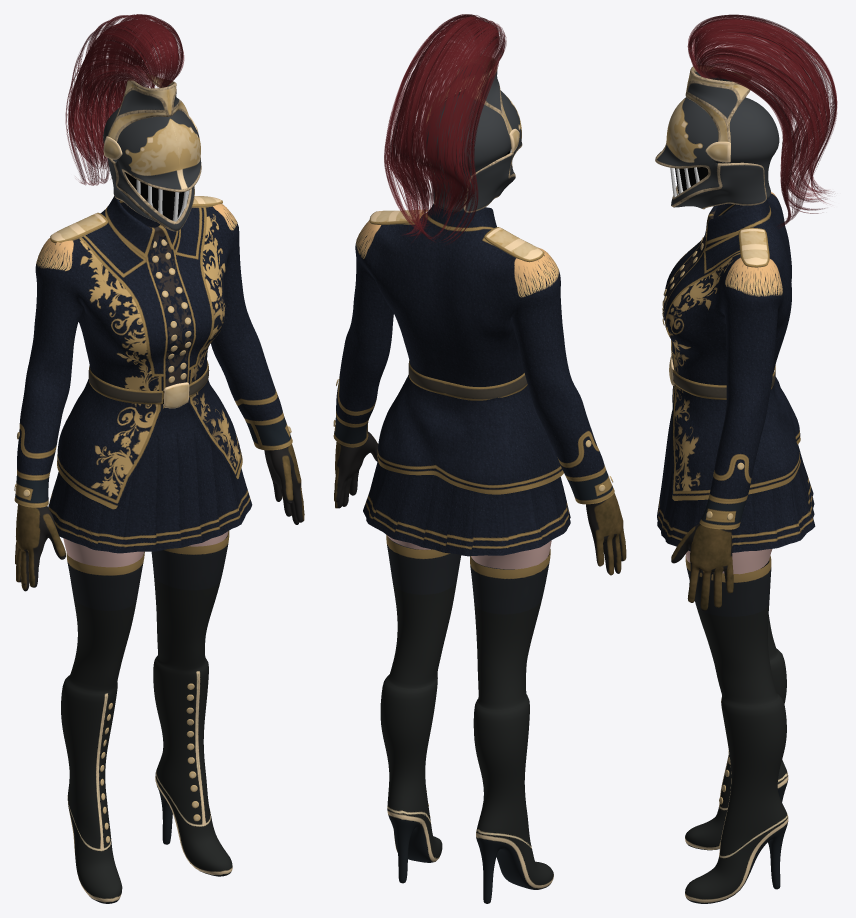
File: female_royal_guard.glb
3 renders of one model, left to right at view 1: azimuth 30°, elevation 25°; view 2: azimuth 150°, elevation 25°; view 3: azimuth 270°, elevation 25°, orthographic.
Parts seen in each view (by area): view 1: RoyalGuard_Female, RoyalGuard_Male.001, HermanSuit_Body.002; view 2: RoyalGuard_Female, RoyalGuard_Male.001, HermanSuit_Body.002; view 3: RoyalGuard_Female, RoyalGuard_Male.001, HermanSuit_Body.002.
Part boxes in pixels (x1,y1,x2,y2): RoyalGuard_Female: (14, 14, 292, 903); RoyalGuard_Male.001: (15, 444, 304, 591); HermanSuit_Body.002: (63, 531, 228, 567); RoyalGuard_Female: (333, 14, 614, 903); RoyalGuard_Male.001: (334, 431, 626, 575); HermanSuit_Body.002: (387, 535, 551, 569); RoyalGuard_Female: (655, 14, 837, 903); RoyalGuard_Male.001: (671, 523, 733, 611); HermanSuit_Body.002: (685, 549, 772, 574).
Size of the model in its own units: 0.6303 by 1.85 by 0.3672.
5 materials, 3 textured.
